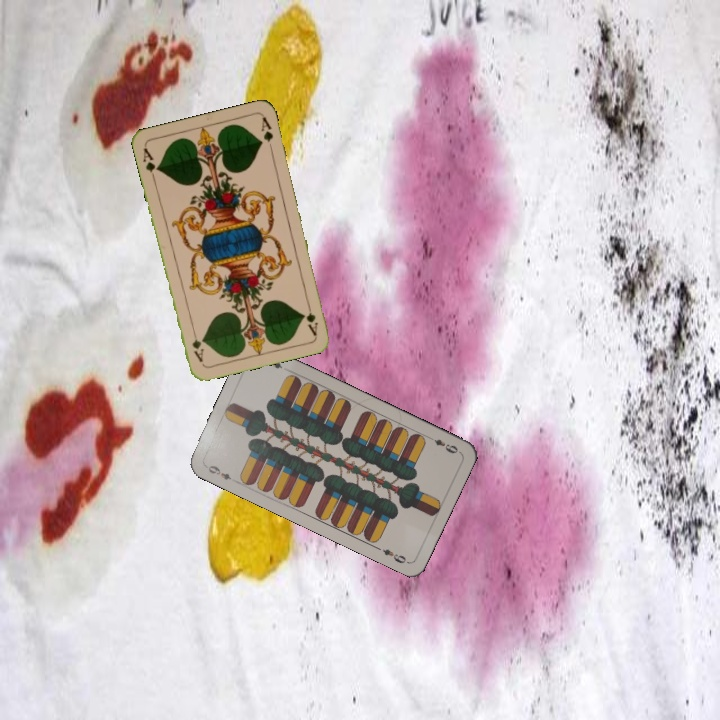E9: (424, 433, 462, 456), (204, 461, 239, 484)
GA: (139, 144, 162, 183), (302, 297, 321, 338)
